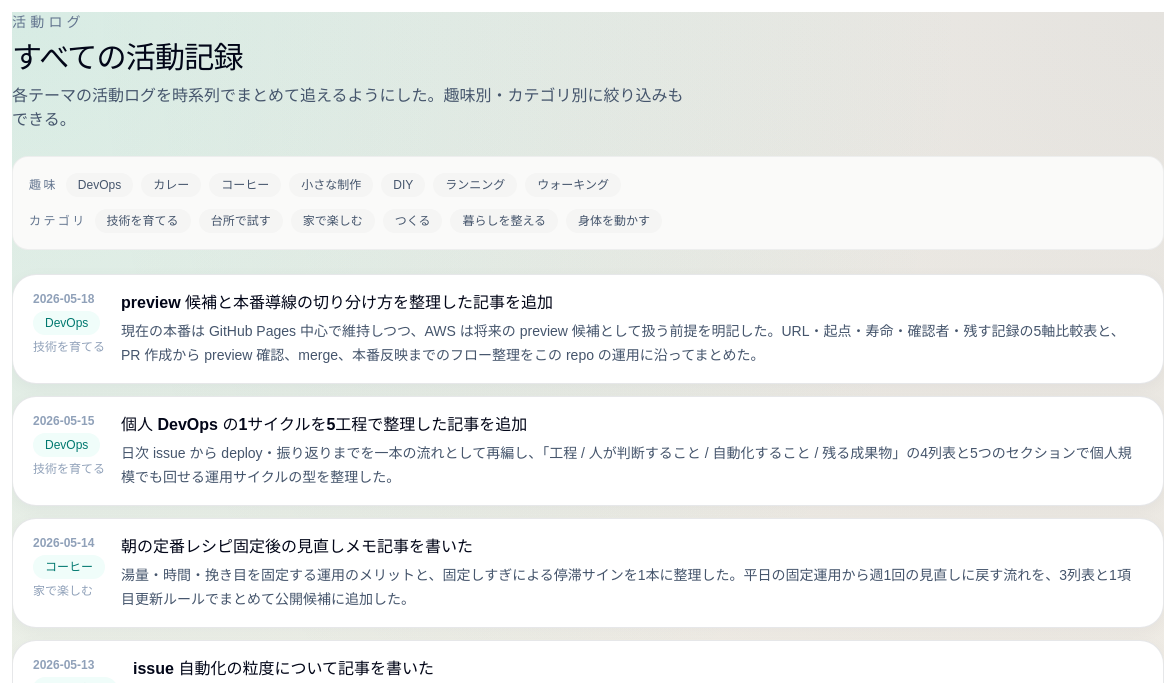
Scenario: ActivityPage › 絞り込み後に「絞り込みを解除」ボタンが表示される
This screenshot has width=1164, height=683.
Click the button "ランニング" at point(475, 185), box [433,173,517,197]
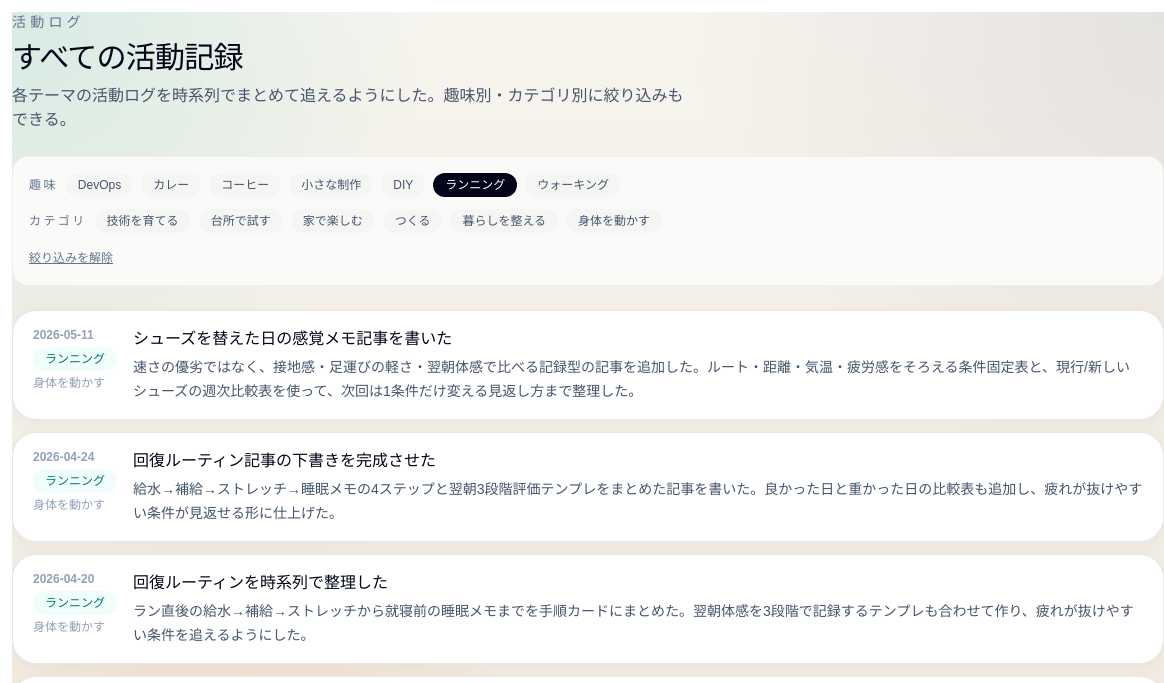
Check: the button "絞り込みを解除" is shown, box [29,250,113,266]
